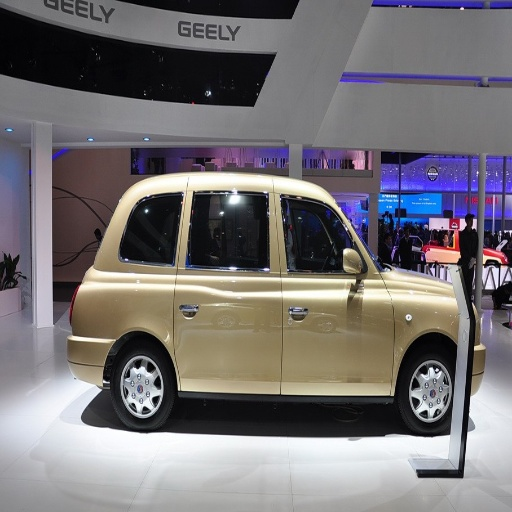trunk: (73, 281, 164, 374)
